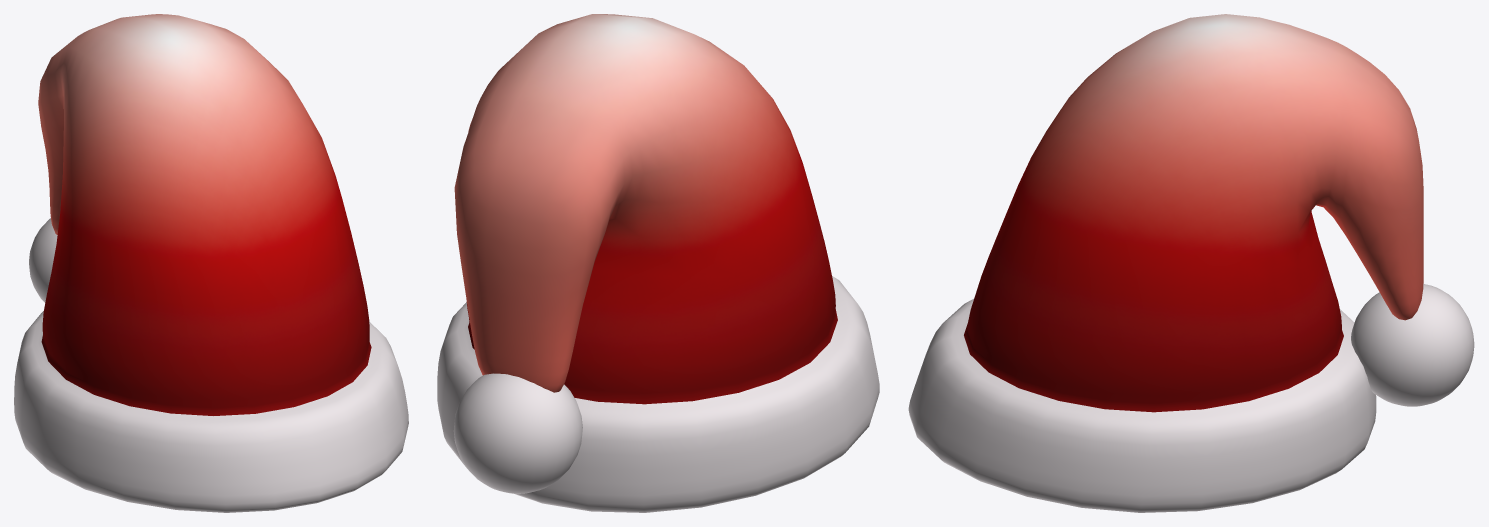
The model's file is HAT.fbx.
The picture shows the model from 3 angles, left to right: view 1: azimuth 30°, elevation 25°; view 2: azimuth 150°, elevation 25°; view 3: azimuth 270°, elevation 25°; orthographic projection. The views are drawn at different scales.
Parts seen in each view (by area): view 1: Cube.003; view 2: Cube.003; view 3: Cube.003.
Part boxes in pixels (x1,y1,x2,y2): Cube.003: [14, 14, 408, 512]; Cube.003: [437, 14, 879, 512]; Cube.003: [908, 14, 1474, 512].
Bounding box in the file's own units: 285 × 308 × 385.
